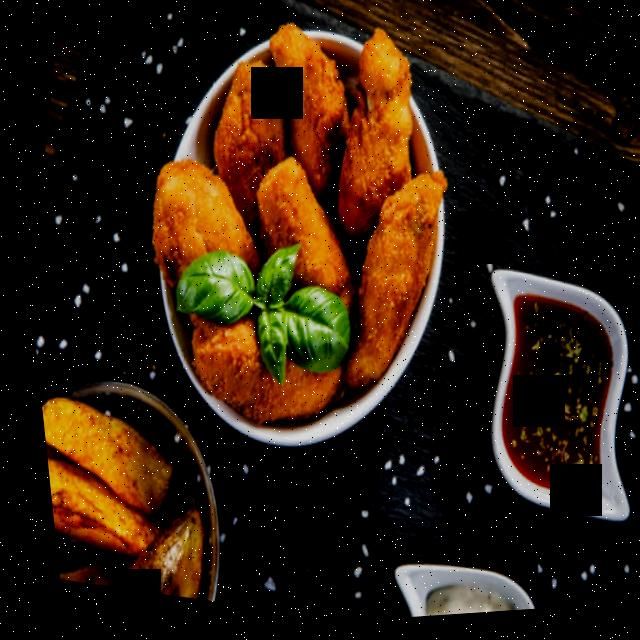Frango: (90, 0, 492, 466), (31, 367, 226, 607)
